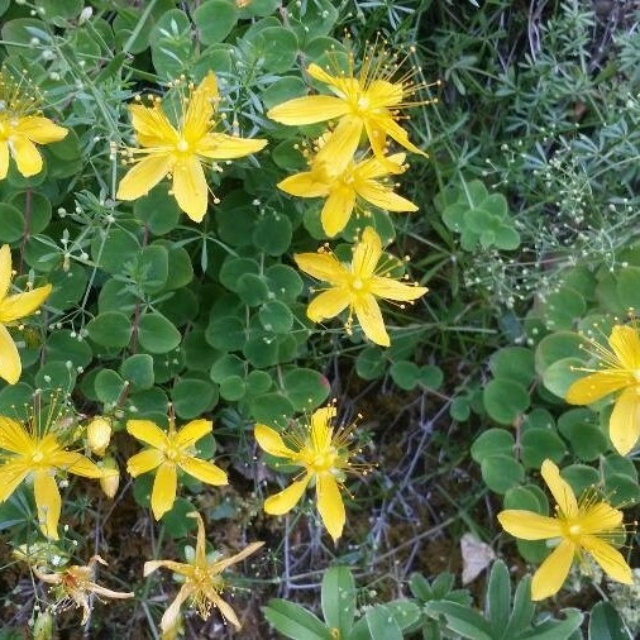obstacle: (83, 62, 403, 532), (483, 271, 624, 591), (225, 575, 607, 632), (436, 166, 550, 281)
